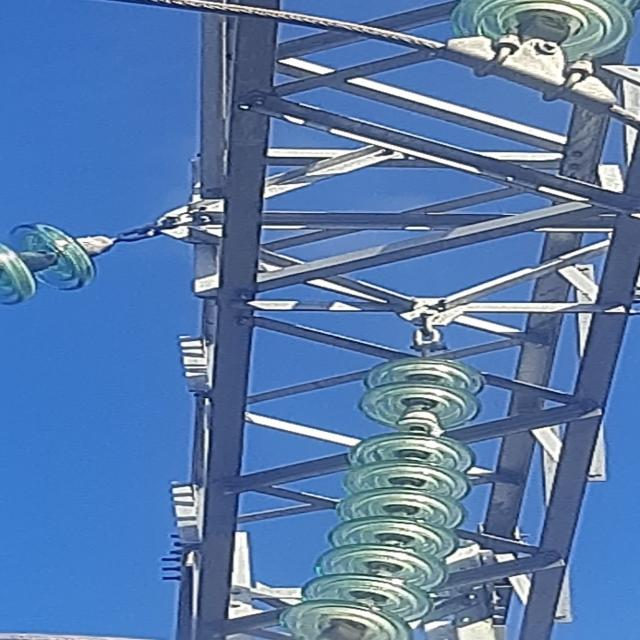杆塔: (150, 0, 640, 640)
正常绝缘子: (266, 341, 489, 640), (449, 2, 640, 72), (0, 215, 104, 321)
绝缘子破损: (393, 409, 442, 432)
